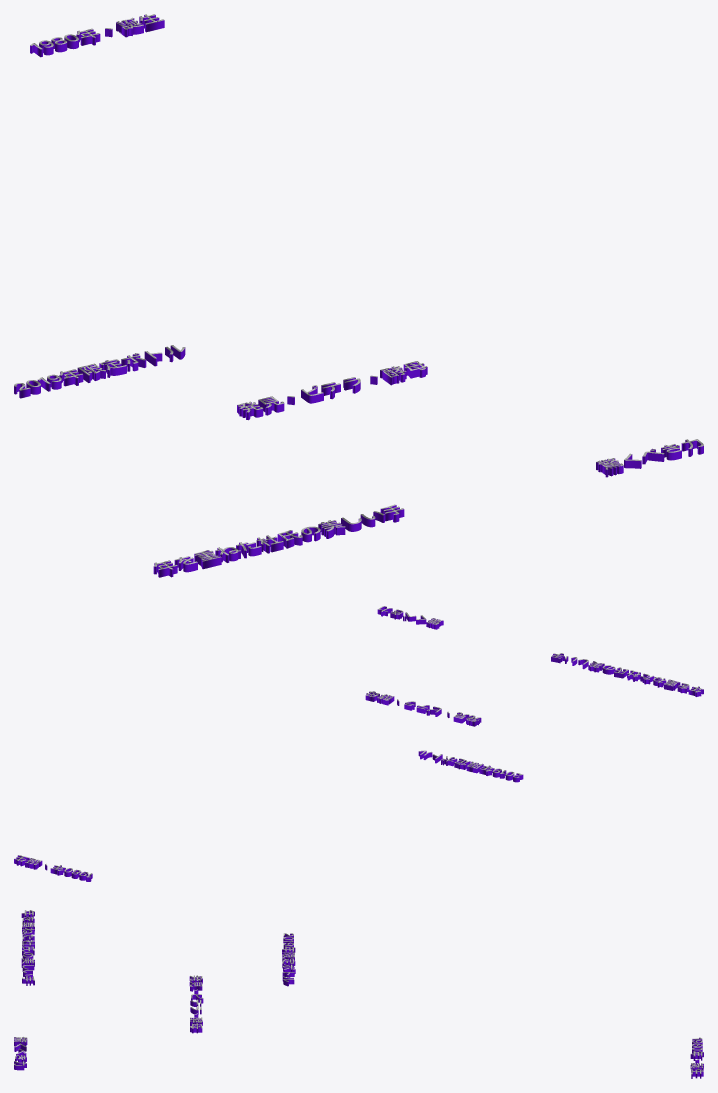
The model's file is SK2_3D_Text_smoothNormals.fbx.
3 renders of one model, top to bottom at view 1: azimuth 30°, elevation 25°; view 2: azimuth 150°, elevation 25°; view 3: azimuth 270°, elevation 25°, orthographic. The views are drawn at different scales.
Bounding box in the file's own units: 116 × 1.5 × 206.
